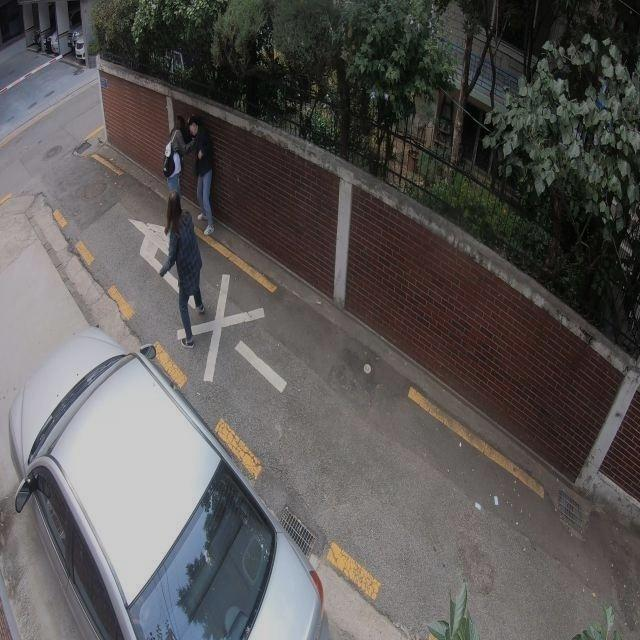fight: (159, 113, 223, 240)
non-fight: (152, 198, 210, 350)
